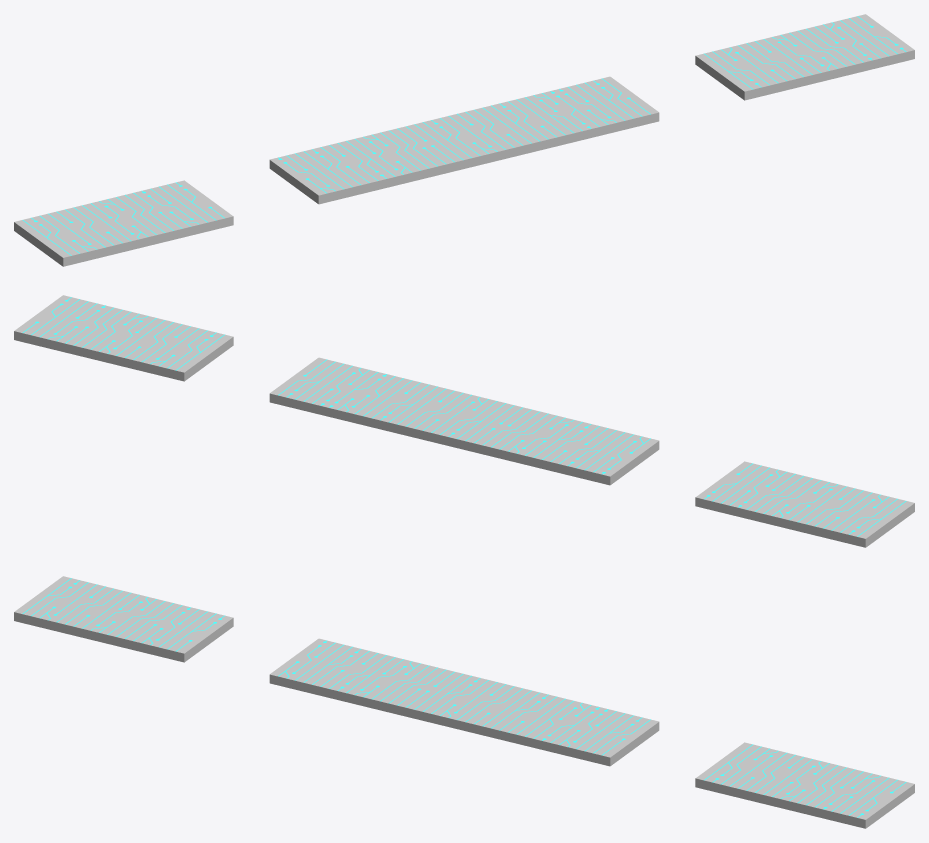
File: floor_metallic3.glb
3 renders of one model, top to bottom at view 1: azimuth 30°, elevation 25°; view 2: azimuth 150°, elevation 25°; view 3: azimuth 330°, elevation 25°, orthographic.
Parts seen in each view (by area): view 1: Cube.010, Plane.039; view 2: Cube.010, Plane.039; view 3: Cube.010, Plane.039.
Part boxes in pixels (bbox=[...]): Cube.010: bbox=[14, 14, 914, 266]; Plane.039: bbox=[22, 16, 906, 255]; Cube.010: bbox=[14, 295, 914, 547]; Plane.039: bbox=[22, 297, 906, 536]; Cube.010: bbox=[14, 576, 914, 828]; Plane.039: bbox=[22, 578, 906, 817].
Size of the model in its own units: 200 by 2.01 by 20.
